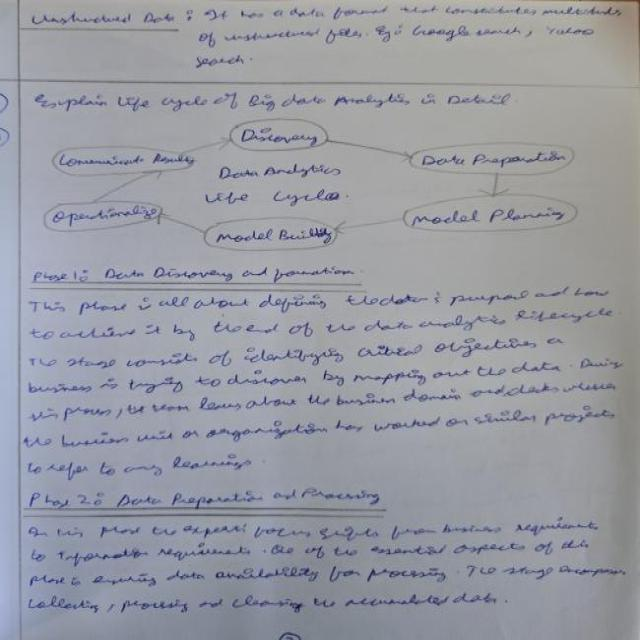Figure Detection - v3 Dataset Version2: (34, 114, 588, 258)
